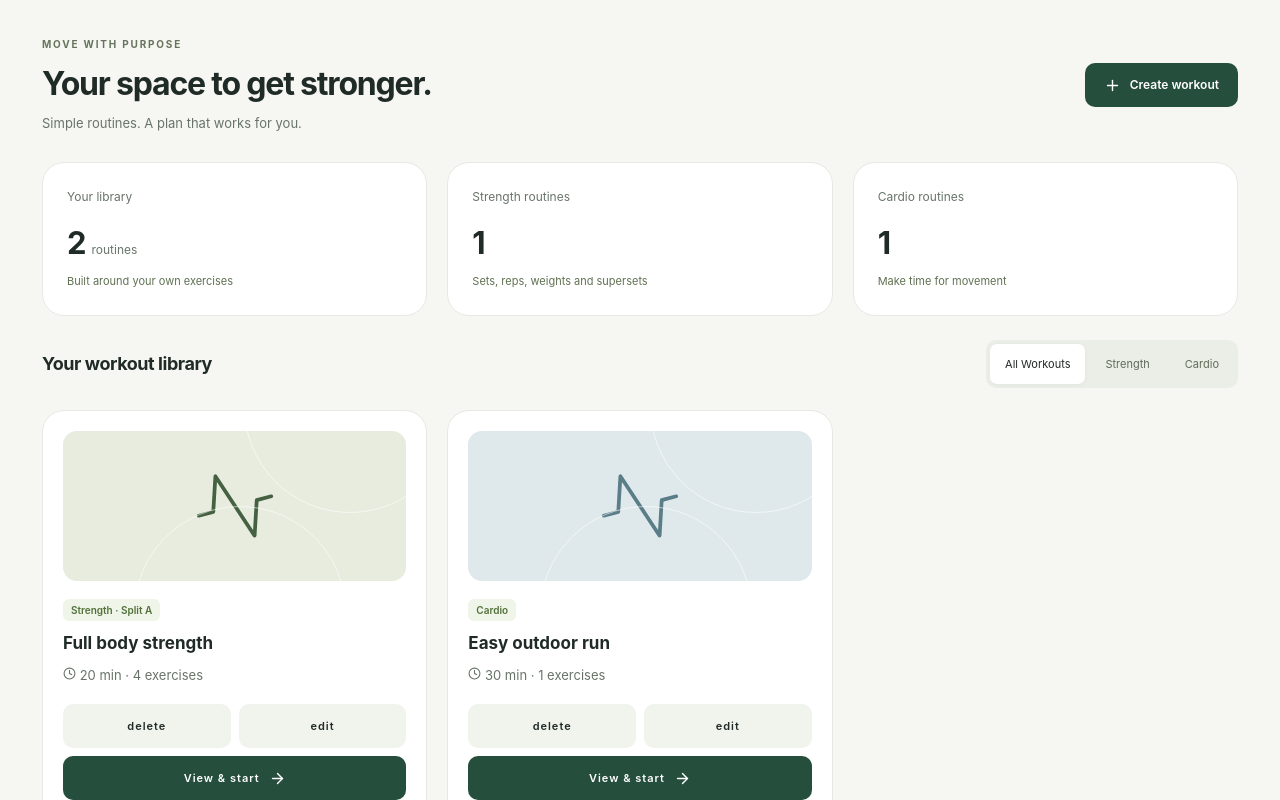
it: Approved redesign with real providers and mocked transport › shows and filters the library without weekly planning controls
The image size is (1280, 800).
Check: the heading "Easy outdoor run" is shown, box [468,633,610,653]
Click the button "Cardio" at [1202, 364], box [1170,344,1234,384]
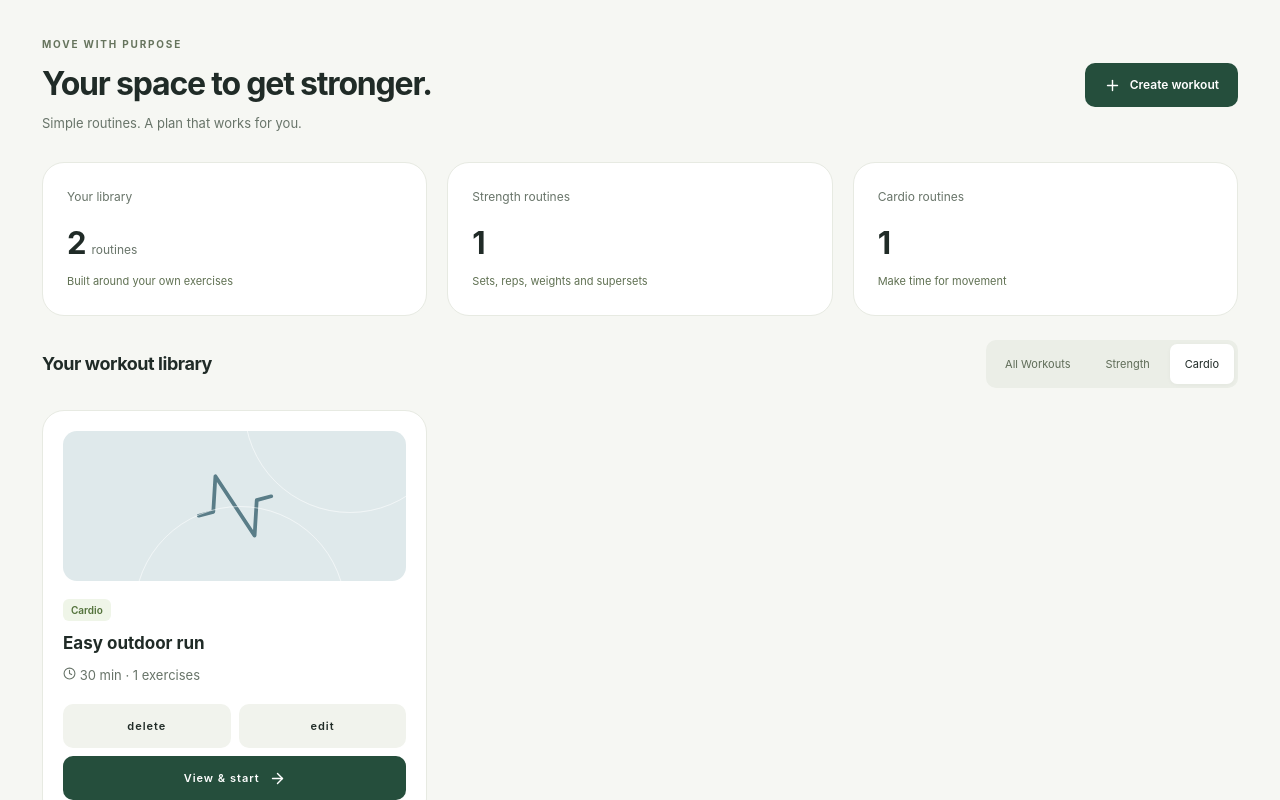
Check: the heading "Easy outdoor run" is shown, box [63,633,205,653]
Check: the heading "Full body strength" is gone
Click the button "All workouts" at [1038, 364], box [990,344,1085,384]
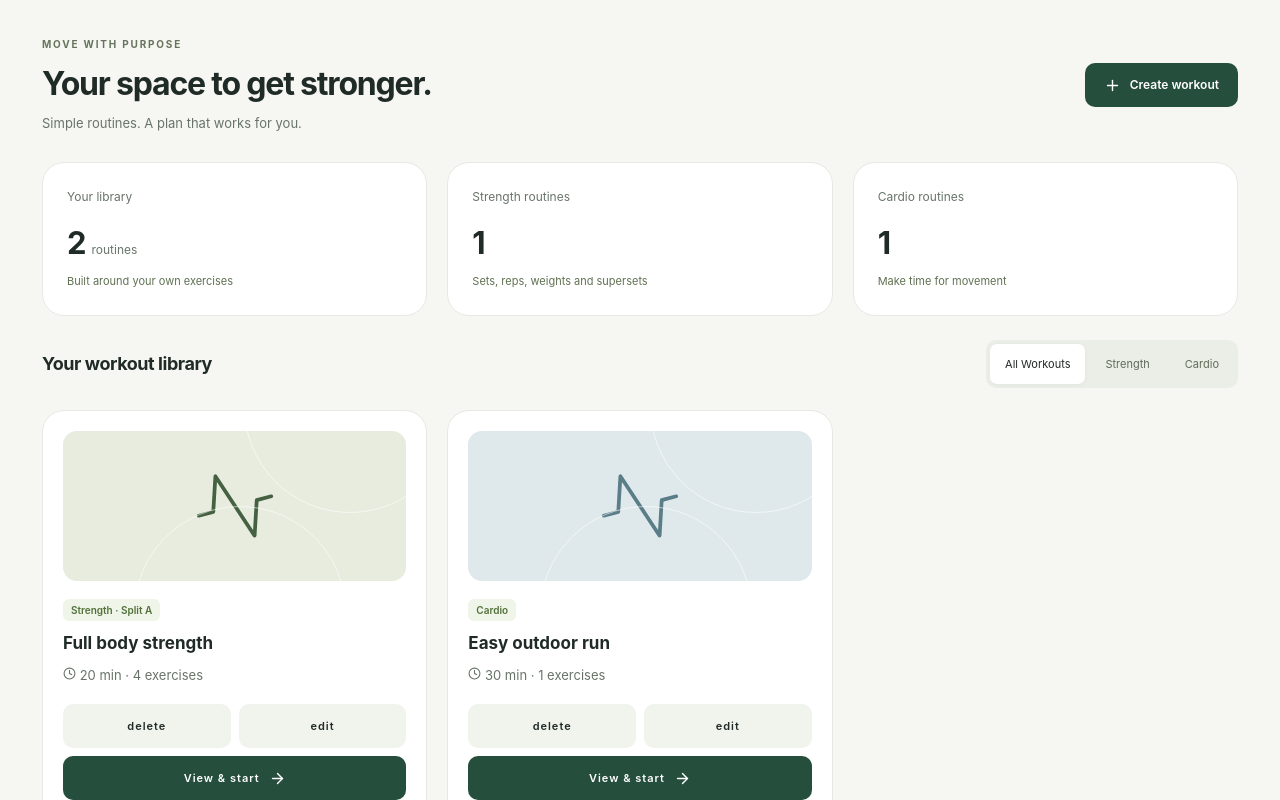
Check: the heading "Full body strength" is shown, box [63,633,213,653]
